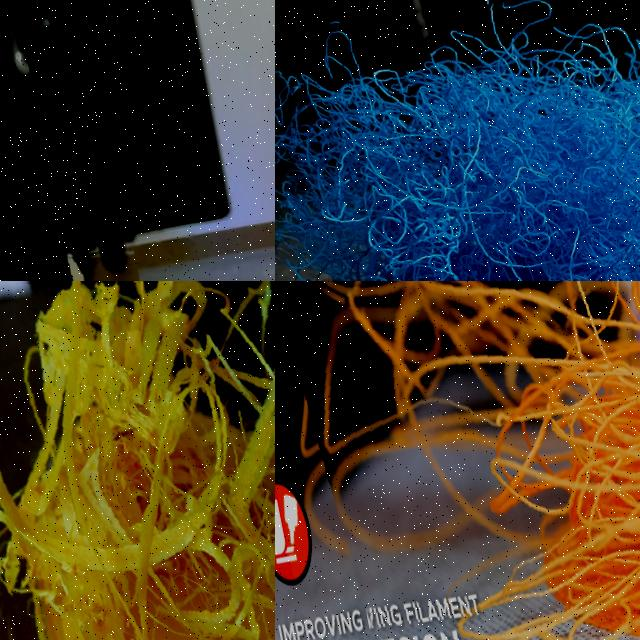spaghetti: (284, 281, 640, 640), (275, 0, 640, 281), (0, 281, 275, 640), (104, 249, 140, 281)
